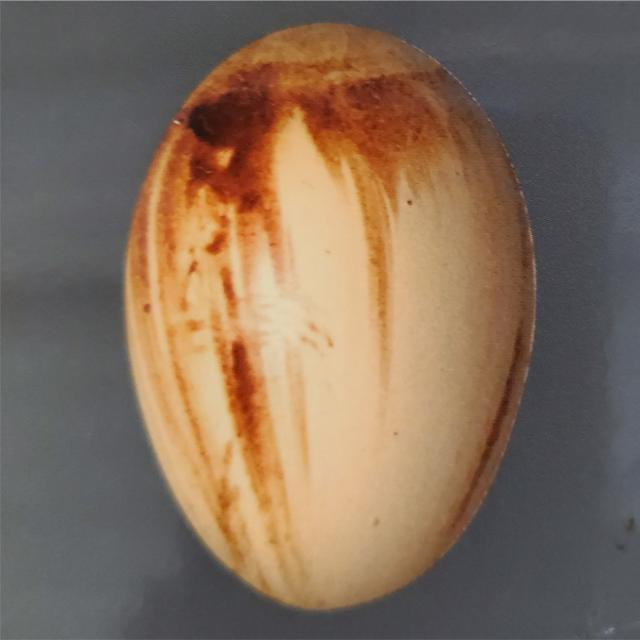Blood Stained Egg: (108, 4, 551, 627)
